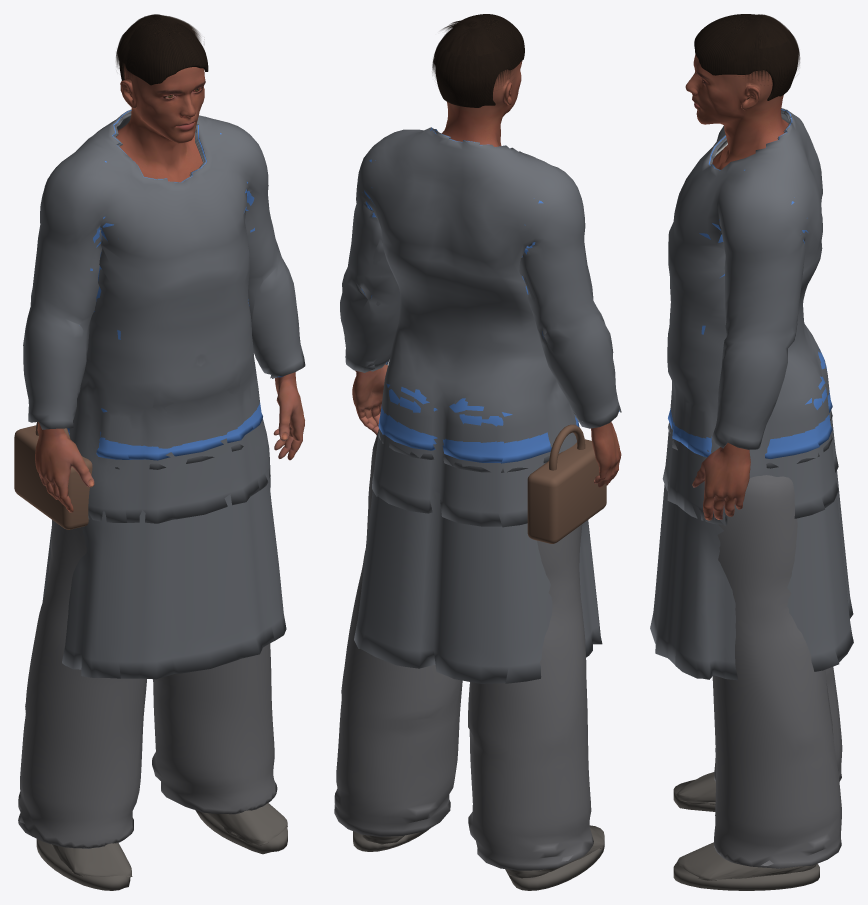
The model's file is man.glb.
3 renders of one model, left to right at view 1: azimuth 30°, elevation 25°; view 2: azimuth 150°, elevation 25°; view 3: azimuth 270°, elevation 25°, orthographic.
Visible parts, largest first — view 1: garment_blazer, garment_baggy_jeans, garment_coat, Human_Body, garment_boots, Hair_Editorial, garment_bag, garment_hoodie, garment_jacket; view 2: garment_blazer, garment_baggy_jeans, garment_coat, Hair_Editorial, garment_bag, Human_Body, garment_hoodie, garment_boots, garment_jacket; view 3: garment_blazer, garment_baggy_jeans, garment_coat, Human_Body, Hair_Editorial, garment_boots, garment_hoodie.
Boxes of the visible parts, left/top/right/bottom form: garment_blazer: left=23, top=109, right=305, bottom=523; garment_baggy_jeans: left=18, top=470, right=277, bottom=848; garment_coat: left=42, top=330, right=286, bottom=679; Human_Body: left=35, top=64, right=304, bottom=512; garment_boots: left=36, top=803, right=287, bottom=890; Hair_Editorial: left=116, top=14, right=208, bottom=95; garment_bag: left=14, top=422, right=92, bottom=529; garment_hoodie: left=67, top=110, right=283, bottom=460; garment_jacket: left=115, top=375, right=243, bottom=469; garment_blazer: left=340, top=127, right=621, bottom=527; garment_baggy_jeans: left=334, top=429, right=593, bottom=870; garment_coat: left=354, top=329, right=602, bottom=683; Hair_Editorial: left=432, top=14, right=524, bottom=107; garment_bag: left=527, top=424, right=606, bottom=543; Human_Body: left=352, top=61, right=621, bottom=487; garment_hoodie: left=361, top=128, right=619, bottom=463; garment_boots: left=353, top=825, right=604, bottom=890; garment_jacket: left=378, top=431, right=549, bottom=472; garment_blazer: left=662, top=108, right=838, bottom=524; garment_baggy_jeans: left=688, top=475, right=842, bottom=868; garment_coat: left=650, top=330, right=853, bottom=680; Human_Body: left=685, top=54, right=788, bottom=520; Hair_Editorial: left=694, top=14, right=800, bottom=100; garment_boots: left=673, top=772, right=819, bottom=890; garment_hoodie: left=668, top=109, right=832, bottom=458.
Bounding box in the file's own units: 0.6334 × 1.86 × 0.4163.
24 materials, 9 textured.
